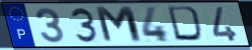3: (34, 6, 66, 44), (70, 6, 98, 44)
4: (141, 6, 172, 44), (211, 5, 239, 43)
D: (166, 5, 207, 44)
M: (93, 5, 146, 45)
